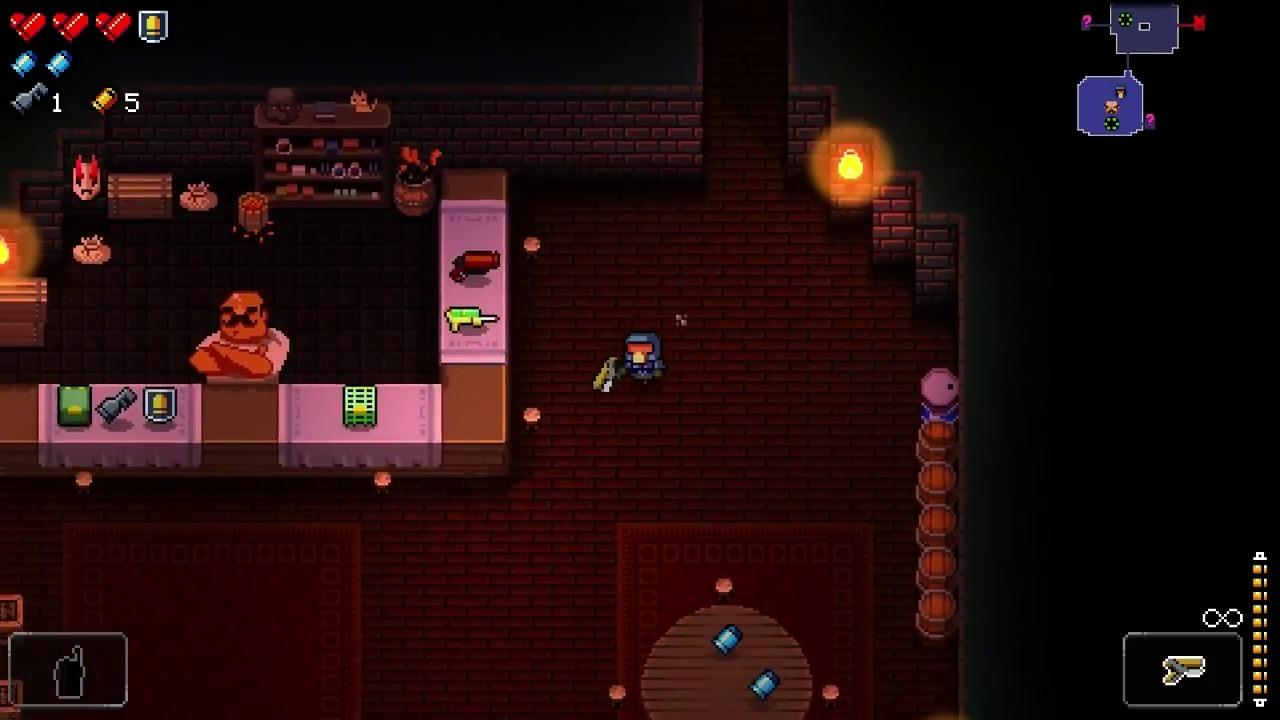player: (624, 332, 666, 386)
shopkeeper: (189, 290, 291, 383)
shopkeeper_table: (440, 199, 508, 366), (278, 383, 442, 444), (39, 383, 203, 444)
